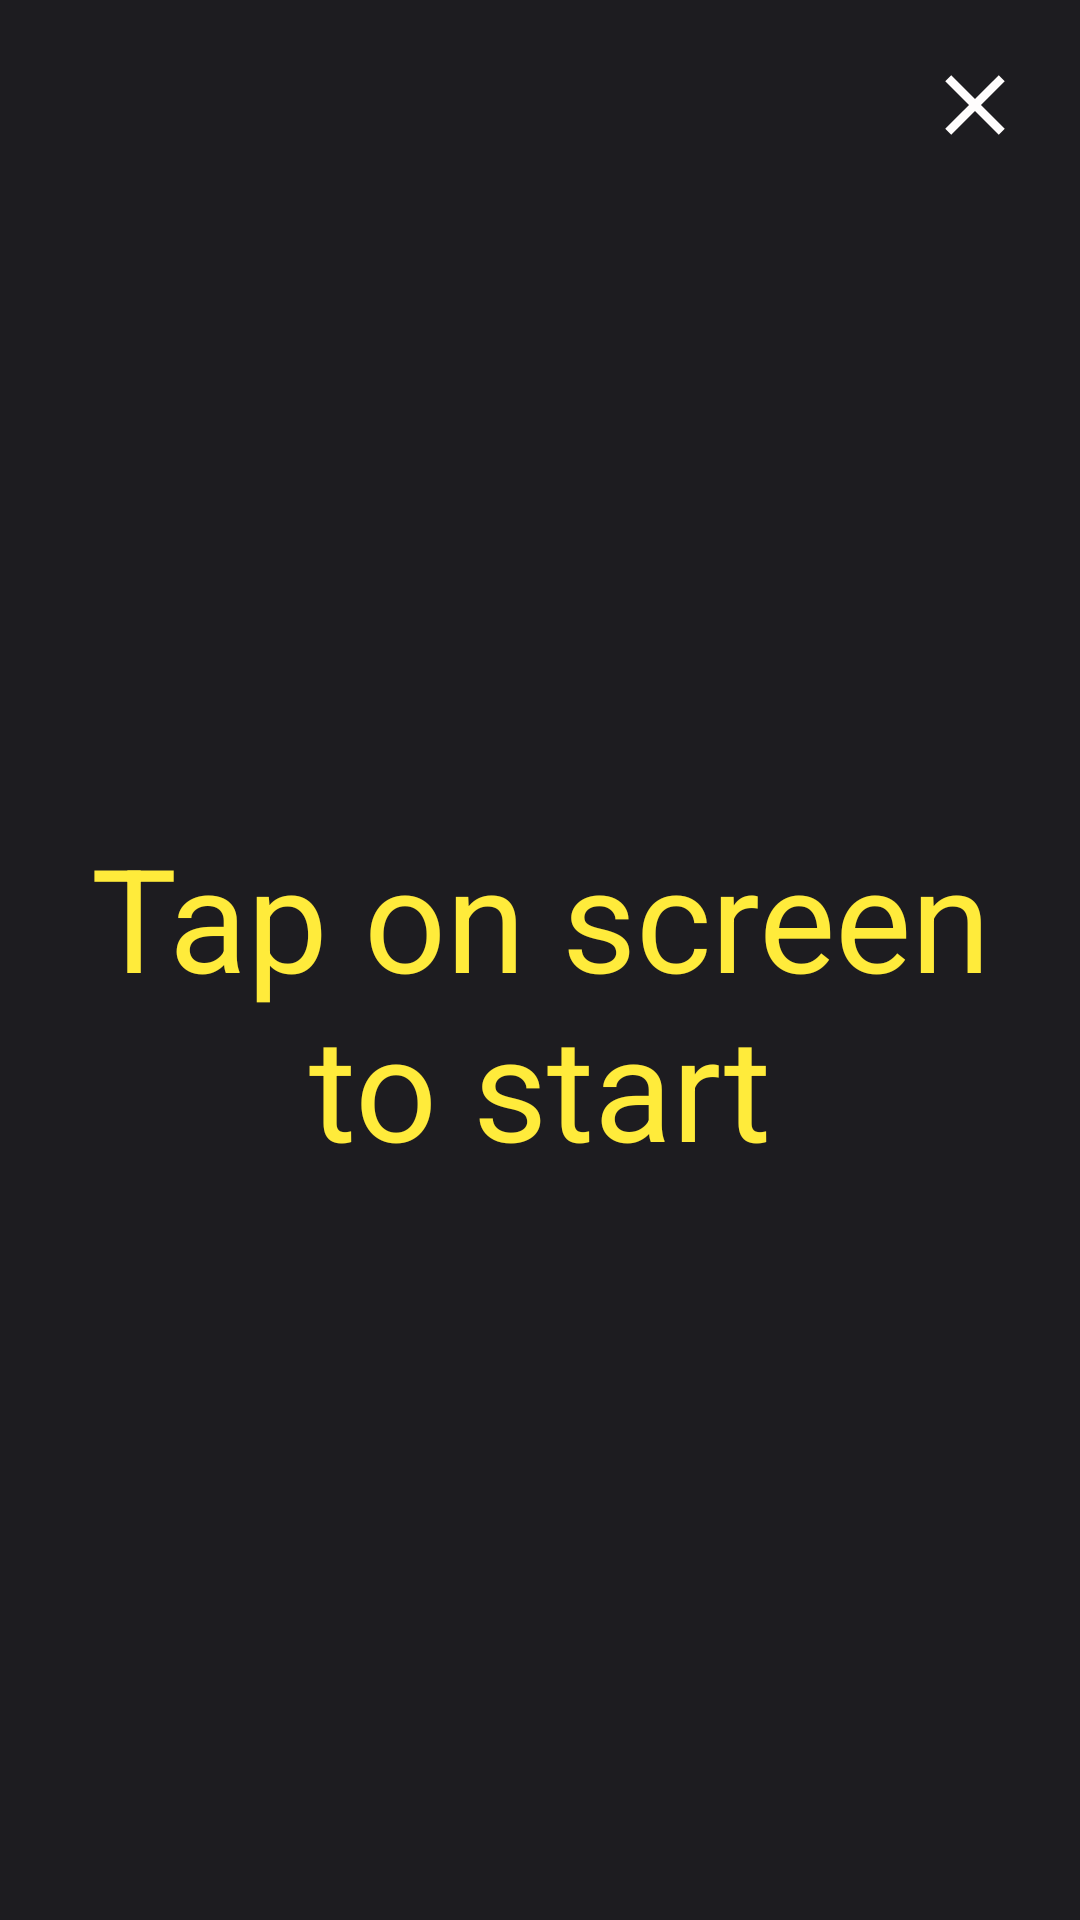

Point at icon controls on the screen. Image size 1080px x 1920px, points as (x=x, y=y).
close: (x=975, y=105)
